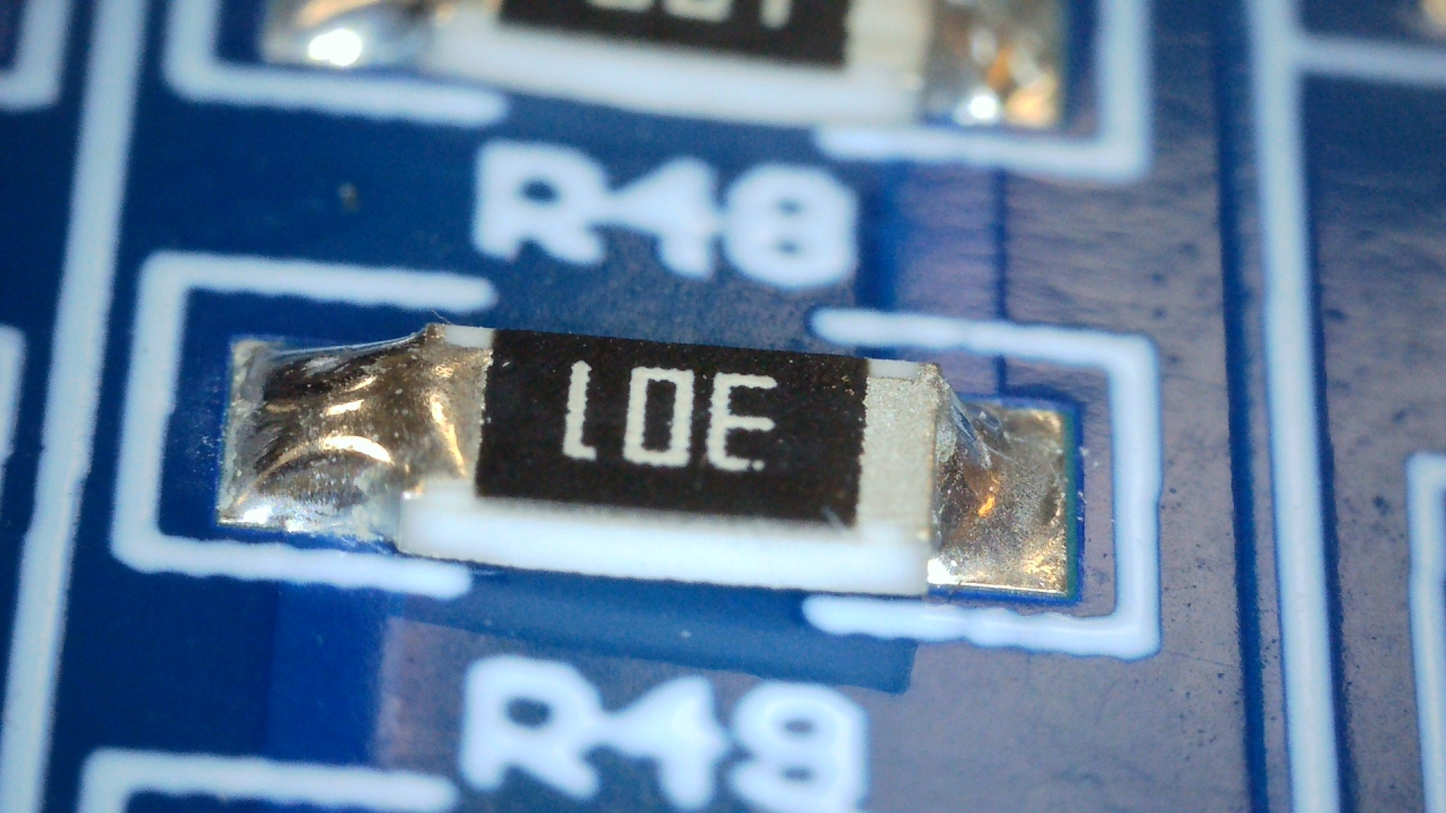NG: (240, 323, 491, 532), (862, 360, 1012, 575)
